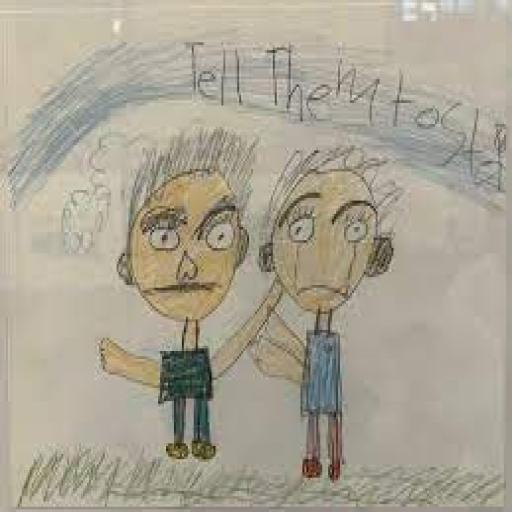person: (90, 114, 259, 478), (259, 126, 407, 482)
